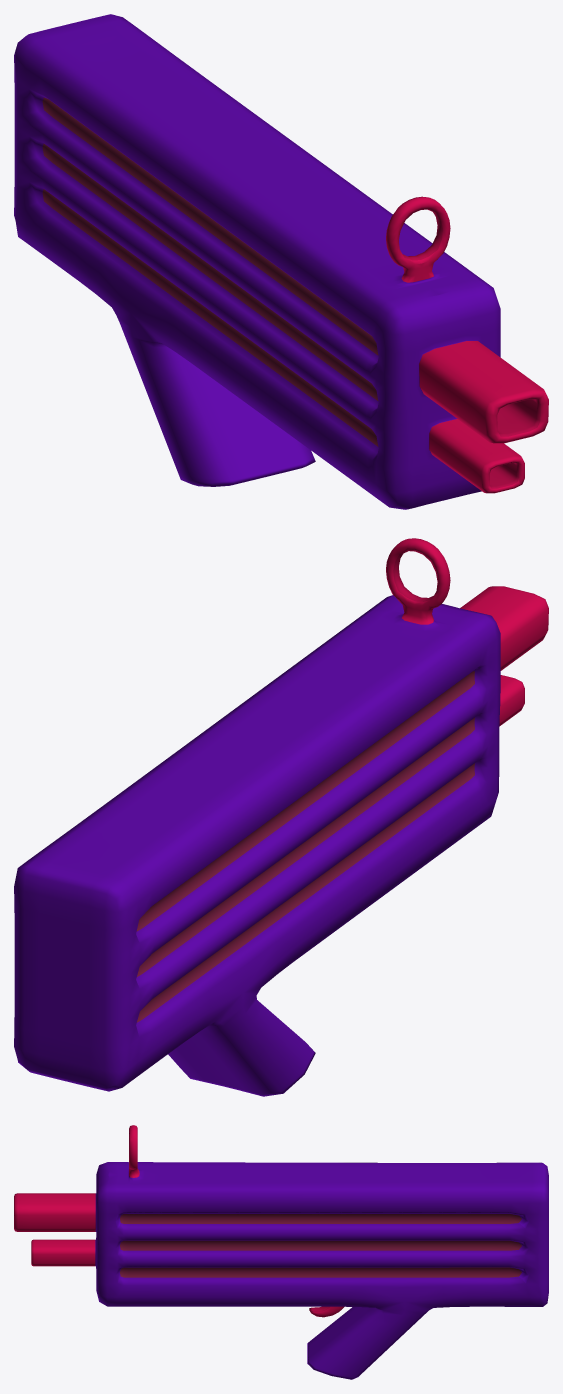
The model's file is Gun.fbx.
The picture shows the model from 3 angles, top to bottom: view 1: azimuth 30°, elevation 25°; view 2: azimuth 150°, elevation 25°; view 3: azimuth 270°, elevation 25°; orthographic projection. The views are drawn at different scales.
Parts seen in each view (by area): view 1: Gun; view 2: Gun; view 3: Gun.
Part boxes in pixels (bbox=[...]): Gun: bbox=[14, 14, 548, 509]; Gun: bbox=[14, 538, 548, 1096]; Gun: bbox=[14, 1125, 548, 1379].
Size of the model in its own units: 0.7384 by 2.56 by 5.17.
1 material, 1 textured.
